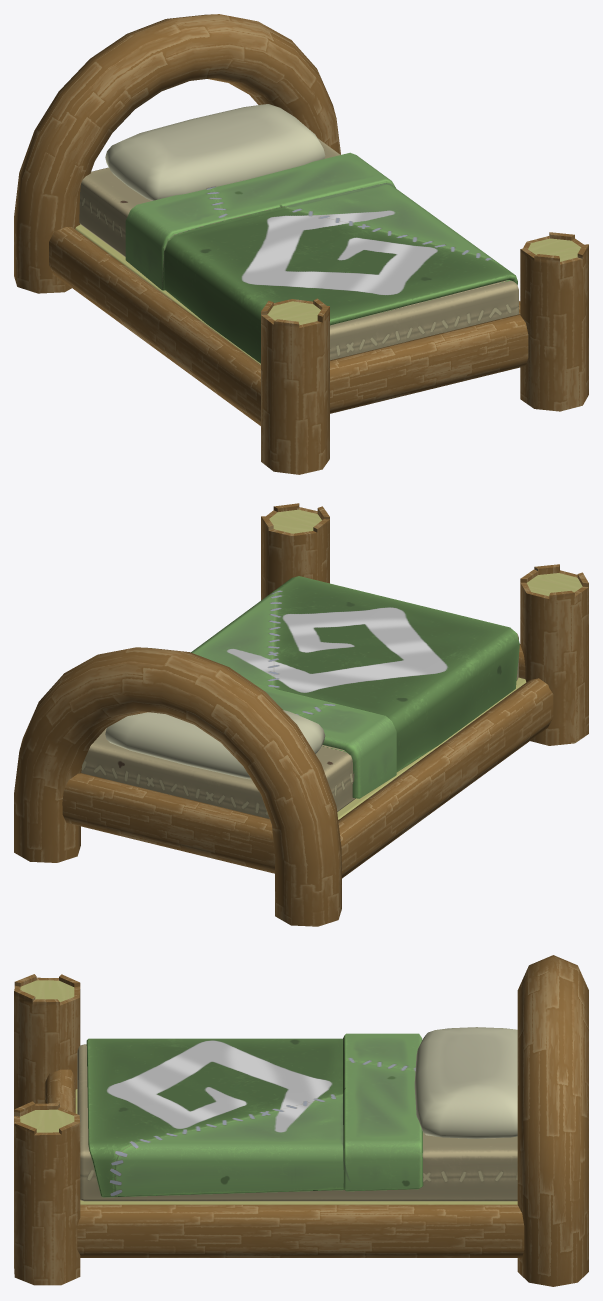
File: Mesh_Bed_Natural_Small.fbx
3 renders of one model, top to bottom at view 1: azimuth 30°, elevation 25°; view 2: azimuth 150°, elevation 25°; view 3: azimuth 270°, elevation 25°, orthographic. The views are drawn at different scales.
Visible parts, largest first — view 1: Mesh_Bed_Natural; view 2: Mesh_Bed_Natural; view 3: Mesh_Bed_Natural.
Boxes of the visible parts, x1=… form: Mesh_Bed_Natural: x1=14, y1=14, x2=588, y2=474; Mesh_Bed_Natural: x1=14, y1=503, x2=588, y2=926; Mesh_Bed_Natural: x1=14, y1=955, x2=588, y2=1286.
Size of the model in its own units: 198 by 135 by 300.
1 material, 1 textured.
